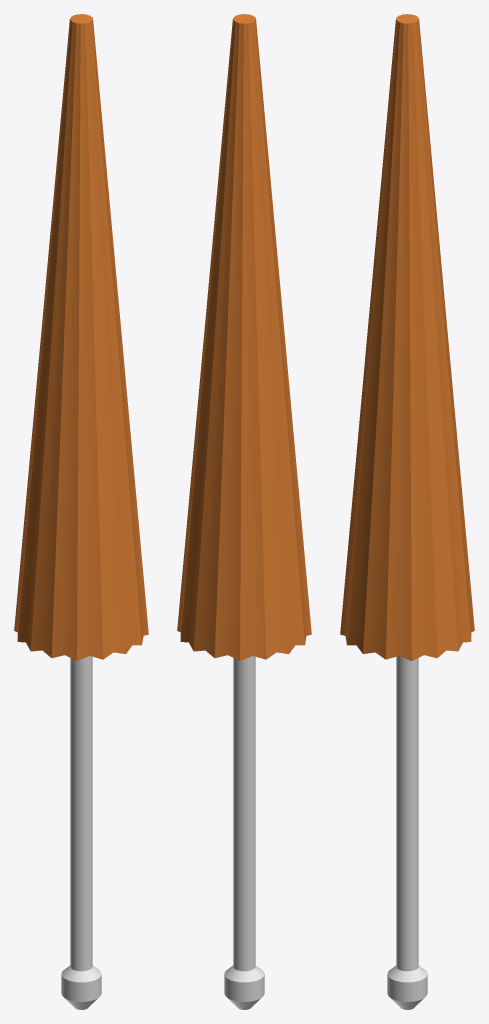
The model's file is Parasol_CLSD.fbx.
3 views of the same model, side by side, from view 1: azimuth 30°, elevation 25°; view 2: azimuth 210°, elevation 25°; view 3: azimuth 330°, elevation 25° (orthographic).
Visible parts, largest first — view 1: Circle; view 2: Circle; view 3: Circle.
Boxes of the visible parts, x1,y1,x2,y2 form: Circle: (14, 14, 148, 1009); Circle: (177, 14, 311, 1009); Circle: (340, 14, 474, 1009).
Bounding box in the file's own units: 58.62 × 483 × 58.62.
